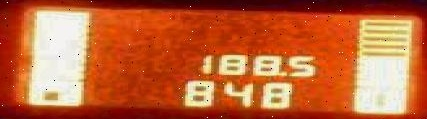-: (276, 70, 286, 75)
1: (193, 52, 211, 73)
4: (219, 78, 253, 106)
5: (287, 53, 318, 76)
8: (255, 80, 292, 107), (180, 77, 214, 106), (214, 52, 245, 75), (250, 52, 278, 75)
